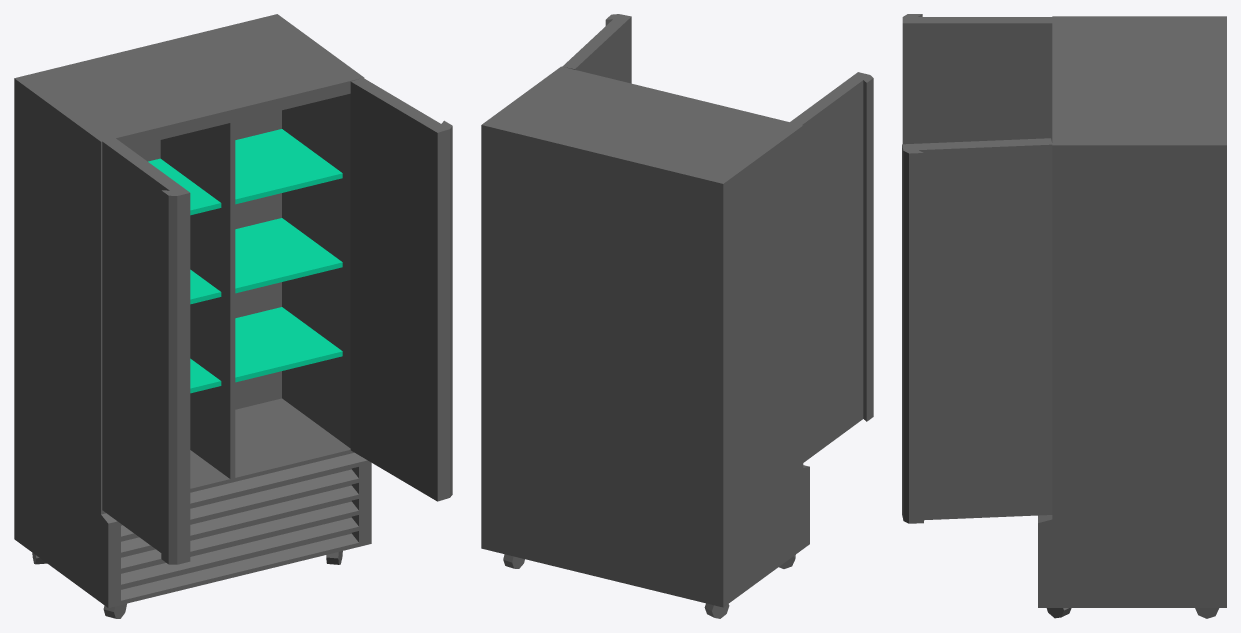
File: Diner_Fridge.fbx
The picture shows the model from 3 angles, left to right: view 1: azimuth 30°, elevation 25°; view 2: azimuth 150°, elevation 25°; view 3: azimuth 270°, elevation 25°; orthographic projection. The views are drawn at different scales.
Visible parts, largest first — view 1: pCylinder266; view 2: pCylinder266; view 3: pCylinder266.
Part boxes in pixels (box(x1,y1,x2,y2)): pCylinder266: box(14, 14, 452, 618); pCylinder266: box(481, 14, 873, 618); pCylinder266: box(902, 14, 1226, 618).
Bounding box in the file's own units: 1.66 × 2.68 × 1.63.
